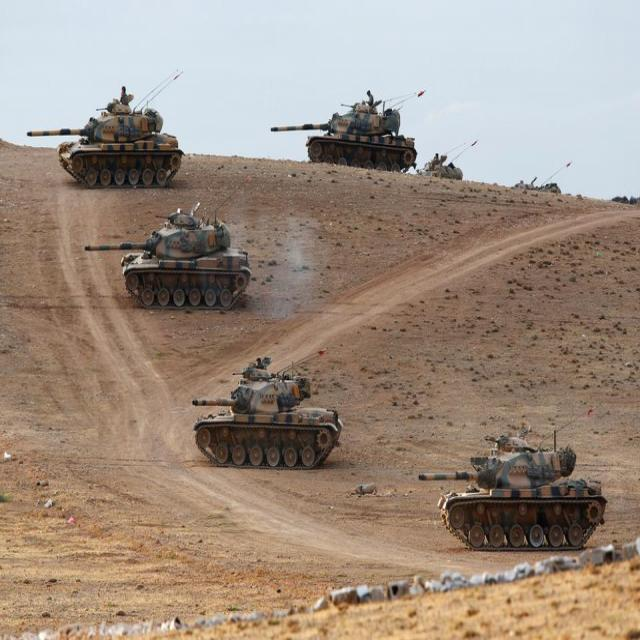tank: (412, 431, 608, 553), (192, 355, 342, 469), (82, 206, 254, 305), (49, 80, 184, 189), (269, 86, 423, 172)
